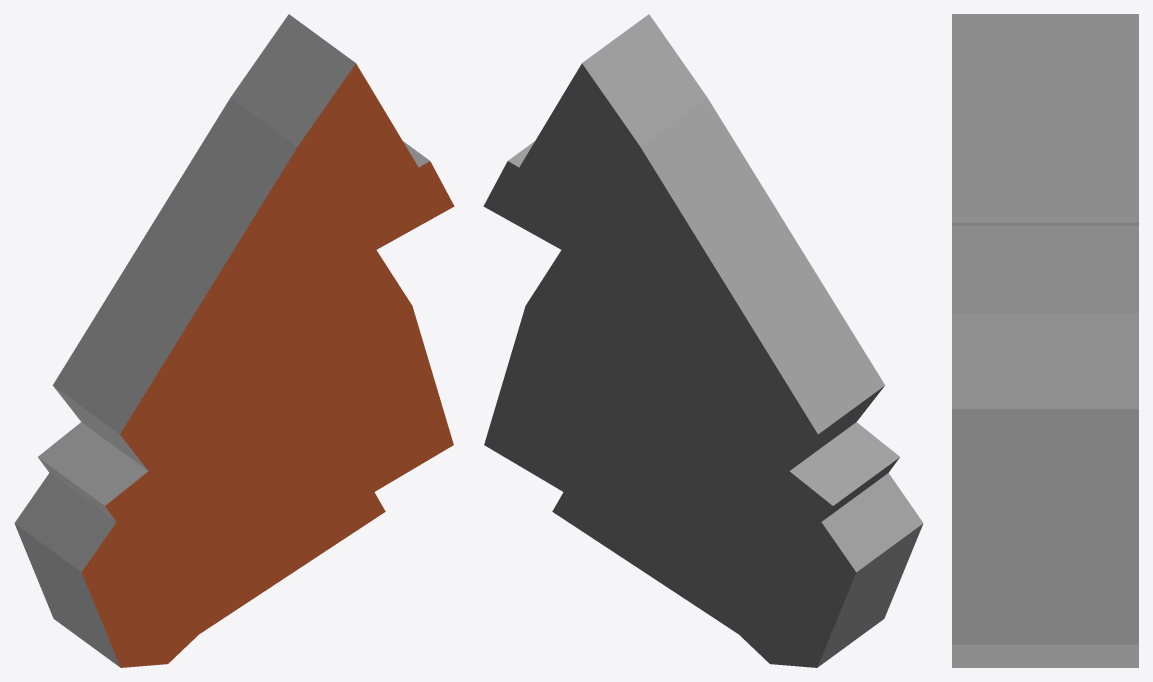
The model's file is construction_3839_assumed_A_Casa_h6m.obj.
3 renders of one model, left to right at view 1: azimuth 30°, elevation 25°; view 2: azimuth 150°, elevation 25°; view 3: azimuth 270°, elevation 25°, orthographic. The views are drawn at different scales.
Visible parts, largest first — view 1: construction_3839_assumed_A_Casa; view 2: construction_3839_assumed_A_Casa; view 3: construction_3839_assumed_A_Casa.
Boxes of the visible parts, x1,y1,x2,y2 form: construction_3839_assumed_A_Casa: (14,14,454,667); construction_3839_assumed_A_Casa: (483,14,923,667); construction_3839_assumed_A_Casa: (952,14,1138,667).
Size of the model in its own units: 19.23 by 27.34 by 6.
